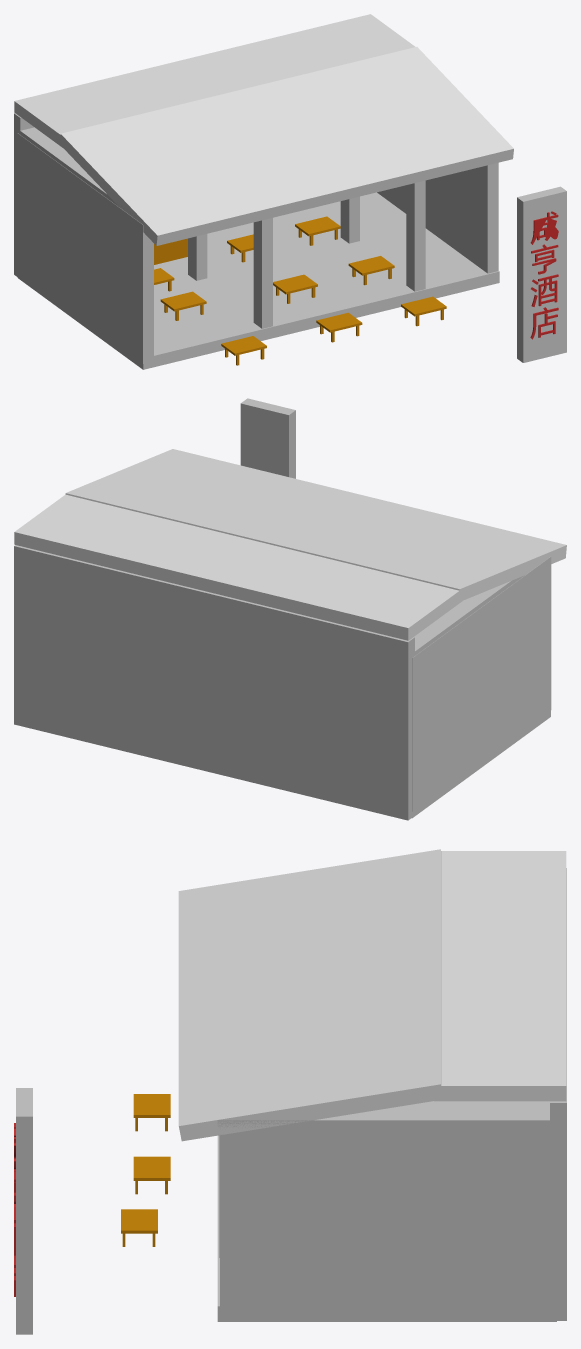
Rendered from XianHeng.fbx.
3 views of the same model, one above another, from view 1: azimuth 30°, elevation 25°; view 2: azimuth 150°, elevation 25°; view 3: azimuth 270°, elevation 25° (orthographic). The views are drawn at different scales.
Parts seen in each view (by area): view 1: 立方体_9_2, 立方体_8_2, 立方体_1_10, 立方体_10_2, 立方体_12, 立方体_10, 立方体_3_11, 立方体_5_2, 文字, 立方体_2_11, 立方体_6_2, 立方体_7_2 (+9 smaller); view 2: 立方体_11, 立方体_9_2, 立方体_10_2, 立方体_1_10, 立方体_12, 立方体_2_11, 立方体_8_2; view 3: 立方体_9_2, 立方体_10, 立方体_10_2, 立方体_2_11, 立方体_8_2, 立方体_12, 立方体_11, 立方体_4_2, 立方体_4, 立方体_4_3.
Part boxes in pixels (left/top/right/bottom): 立方体_9_2: left=60, top=47, right=513, bottom=245; 立方体_8_2: left=17, top=192, right=499, bottom=369; 立方体_1_10: left=17, top=133, right=153, bottom=363; 立方体_10_2: left=14, top=14, right=415, bottom=147; 立方体_12: left=517, top=186, right=566, bottom=362; 立方体_10: left=377, top=162, right=498, bottom=273; 立方体_3_11: left=406, top=180, right=425, bottom=291; 立方体_5_2: left=253, top=218, right=272, bottom=328; 文字: left=530, top=211, right=558, bottom=339; 立方体_2_11: left=17, top=127, right=143, bottom=223; 立方体_6_2: left=188, top=234, right=207, bottom=280; 立方体_7_2: left=340, top=196, right=359, bottom=243; 立方体_11: left=14, top=545, right=414, bottom=820; 立方体_9_2: left=65, top=449, right=566, bottom=600; 立方体_10_2: left=14, top=494, right=462, bottom=640; 立方体_1_10: left=412, top=556, right=551, bottom=811; 立方体_12: left=240, top=398, right=295, bottom=478; 立方体_2_11: left=412, top=575, right=524, bottom=657; 立方体_8_2: left=412, top=710, right=550, bottom=818; 立方体_9_2: left=178, top=849, right=441, bottom=1141; 立方体_10: left=220, top=1135, right=549, bottom=1306; 立方体_10_2: left=434, top=851, right=566, bottom=1101; 立方体_2_11: left=217, top=1101, right=556, bottom=1135; 立方体_8_2: left=217, top=1135, right=556, bottom=1321; 立方体_12: left=16, top=1088, right=32, bottom=1334; 立方体_11: left=550, top=868, right=566, bottom=1320; 立方体_4_2: left=133, top=1156, right=170, bottom=1180; 立方体_4: left=121, top=1209, right=157, bottom=1233; 立方体_4_3: left=133, top=1094, right=170, bottom=1117.
Size of the model in its own units: 1014 by 513 by 1008.
